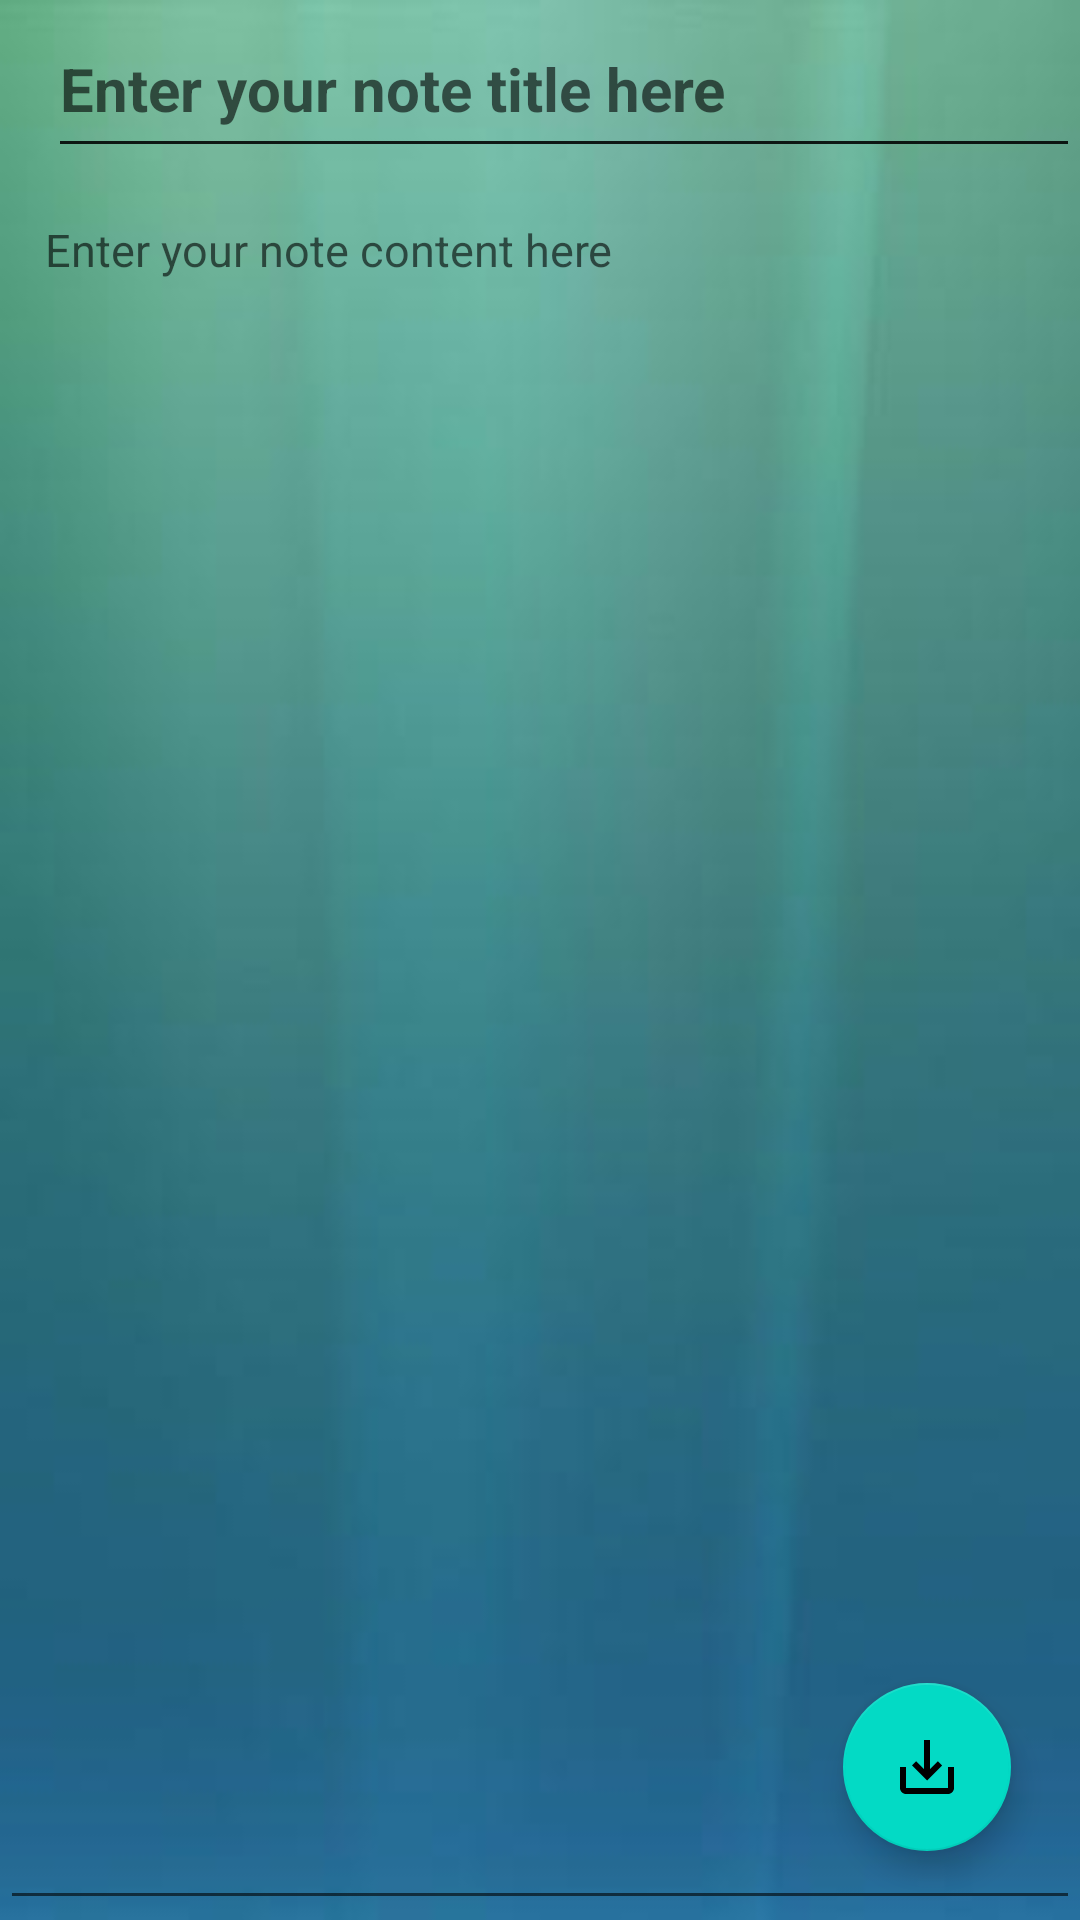

Where icons sit on this 1080x1920 app screen, as (x1, y1, x2, y2):
save: (843, 1683, 1011, 1851)
